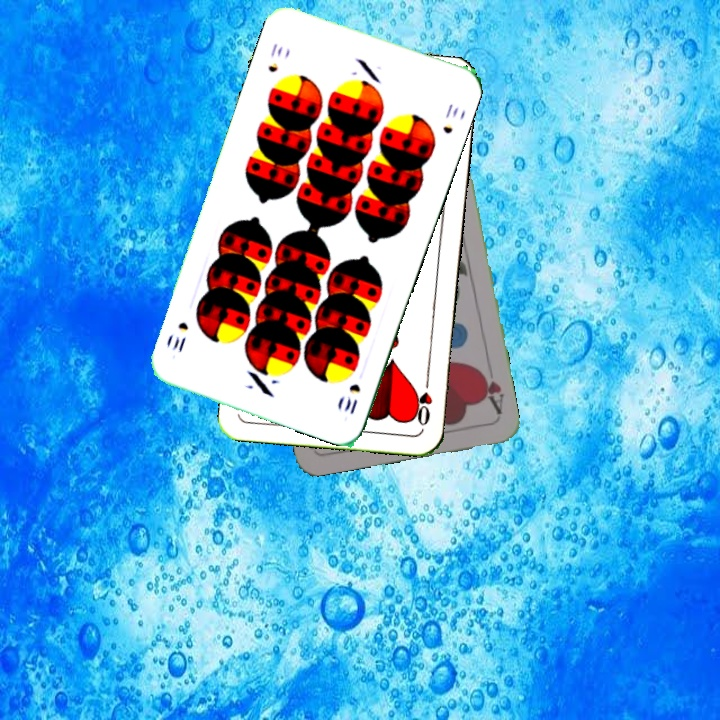HA: (475, 364, 507, 417)
HO: (412, 371, 435, 428)
S10: (340, 379, 363, 417), (264, 39, 286, 75)
